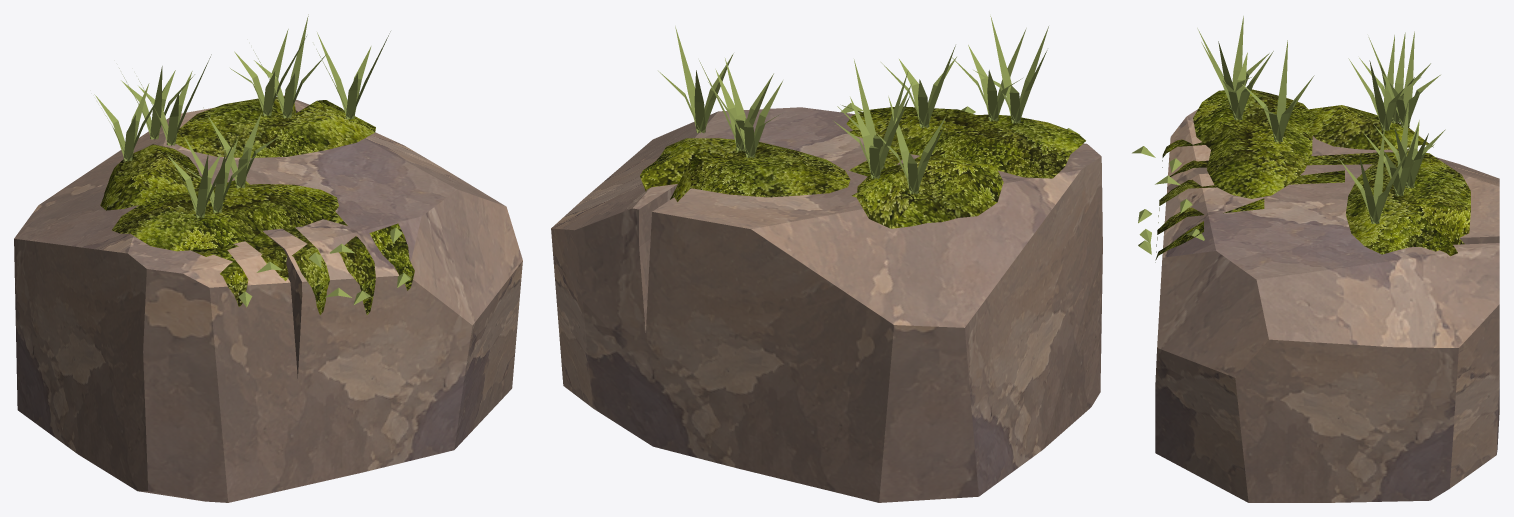
Rendered from talus.glb.
3 renders of one model, left to right at view 1: azimuth 30°, elevation 25°; view 2: azimuth 150°, elevation 25°; view 3: azimuth 270°, elevation 25°, orthographic. The views are drawn at different scales.
Visible parts, largest first — view 1: talus__stone, talus__moss, talus__plants; view 2: talus__stone, talus__moss, talus__plants; view 3: talus__stone, talus__moss, talus__plants.
Part boxes in pixels (bbox=[...]): talus__stone: bbox=[14, 95, 522, 502]; talus__moss: bbox=[100, 96, 414, 314]; talus__plants: bbox=[94, 14, 410, 307]; talus__stone: bbox=[551, 107, 1102, 502]; talus__moss: bbox=[640, 105, 1085, 228]; talus__plants: bbox=[658, 16, 1080, 194]; talus__stone: bbox=[1155, 109, 1499, 502]; talus__moss: bbox=[1155, 89, 1470, 262]; talus__plants: bbox=[1132, 16, 1445, 254].
Size of the model in its own units: 1.22 by 1.02 by 1.02.
3 materials, 2 textured.
